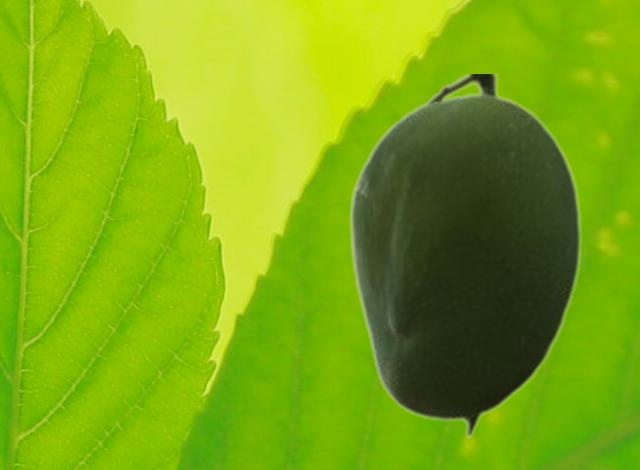green_mango: (347, 74, 581, 438)
